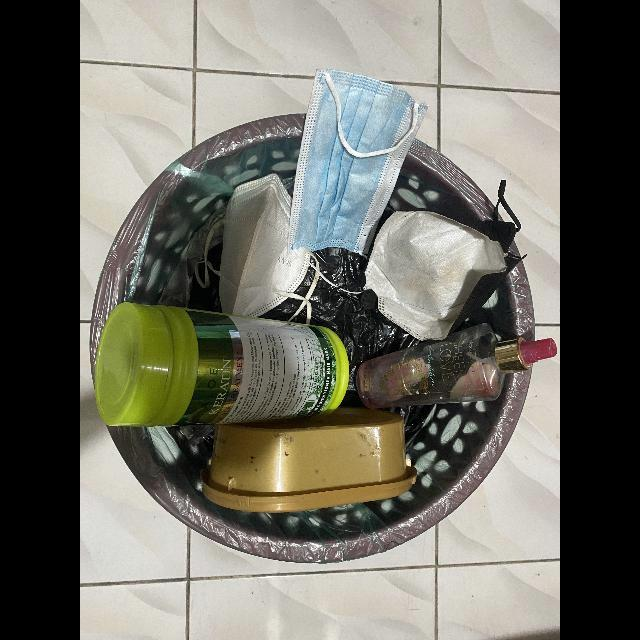plastic_bottle: (356, 333, 558, 409)
plastic_container: (92, 302, 350, 428), (202, 409, 420, 509)
